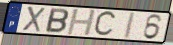6: (142, 13, 163, 41)
B: (44, 7, 70, 34)
C: (92, 10, 118, 38)
H: (66, 9, 98, 36)
I: (122, 11, 137, 41)
X: (21, 6, 47, 34)
